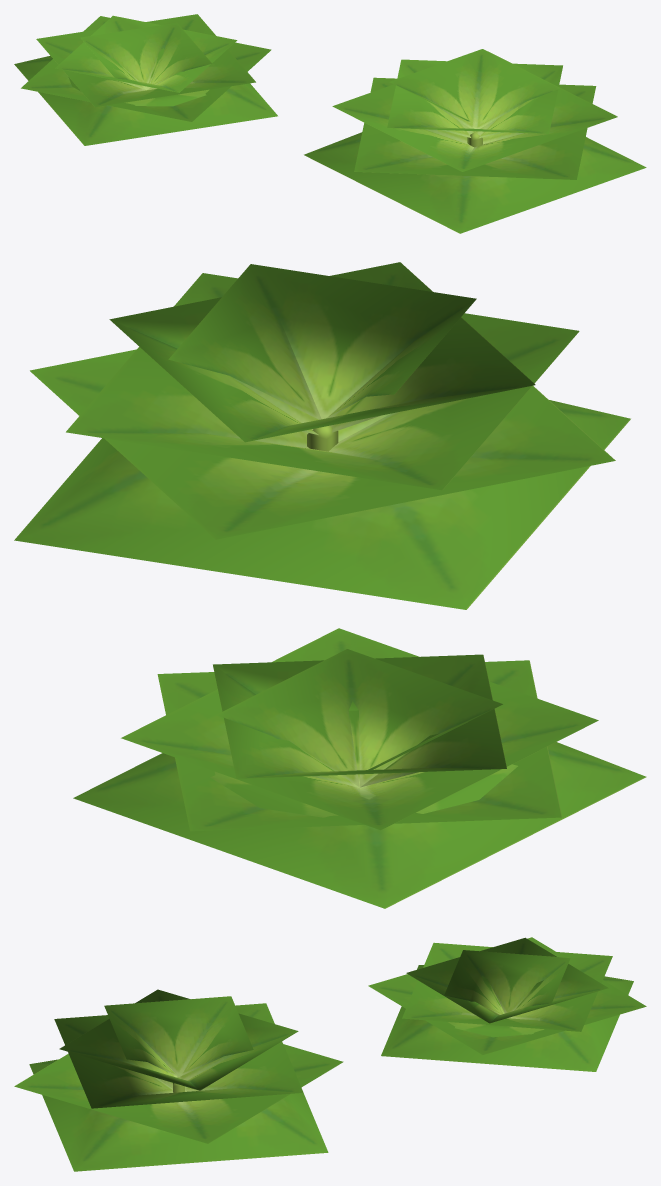
File: PltWeedSpr1C.glb
3 views of the same model, one above another, from view 1: azimuth 30°, elevation 25°; view 2: azimuth 150°, elevation 25°; view 3: azimuth 270°, elevation 25° (orthographic). The views are drawn at different scales.
Parts seen in each view (by area): view 1: pCylinder1__mWeedTall; view 2: pCylinder1__mWeedTall; view 3: pCylinder1__mWeedTall.
Part boxes in pixels (x1,y1,x2,y2): pCylinder1__mWeedTall: (14, 14, 646, 233); pCylinder1__mWeedTall: (14, 262, 646, 908); pCylinder1__mWeedTall: (14, 937, 646, 1171).
Bounding box in the file's own units: 7.81 × 1.34 × 9.55.
1 material, 1 textured.
